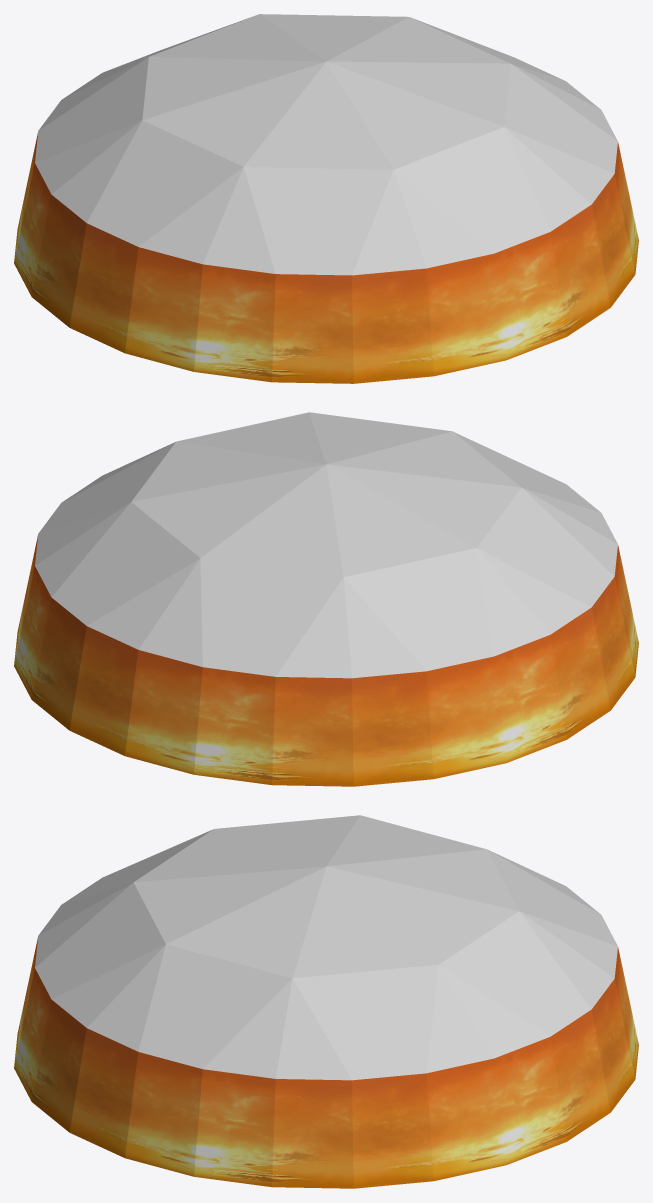
Rendered from Skybox4.obj.
The picture shows the model from 3 angles, top to bottom: view 1: azimuth 30°, elevation 25°; view 2: azimuth 150°, elevation 25°; view 3: azimuth 270°, elevation 25°; orthographic projection.
Visible parts, largest first — view 1: obj1; view 2: obj1; view 3: obj1.
Boxes of the visible parts, left/top/right/bottom form: obj1: left=14, top=14, right=638, bottom=383; obj1: left=14, top=412, right=638, bottom=786; obj1: left=14, top=815, right=638, bottom=1188.
Size of the model in its own units: 161384 by 54677 by 161384.
